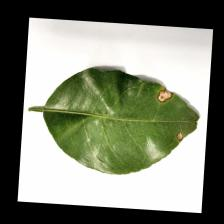canker: (152, 84, 196, 153)
